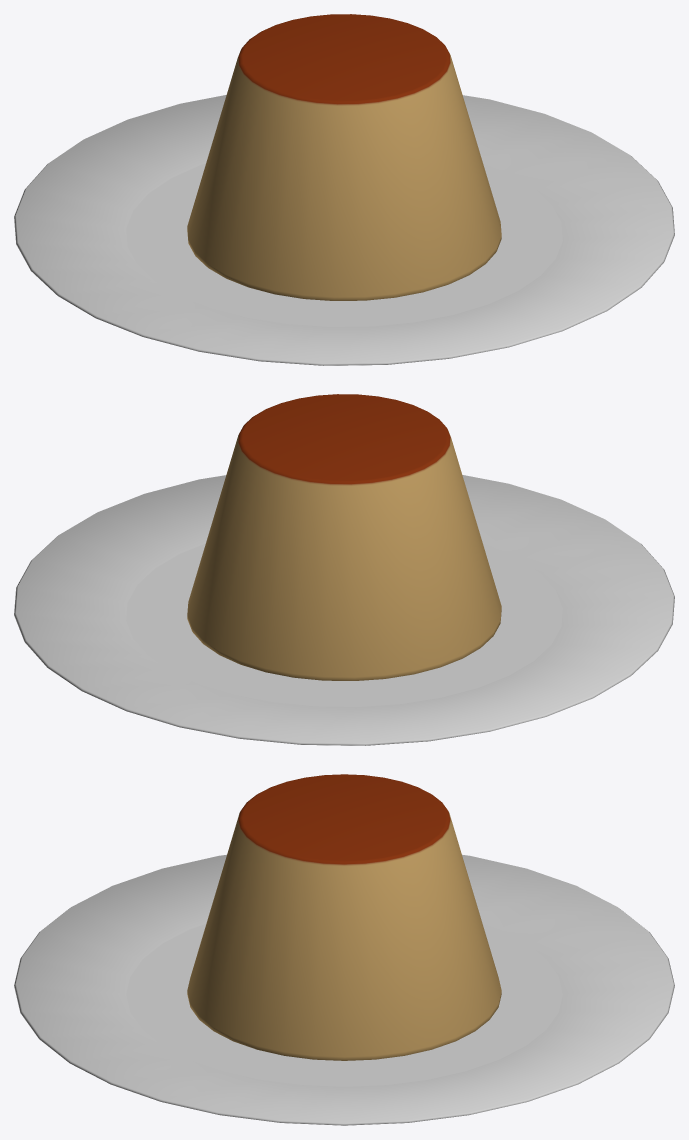
The model's file is pudding.glb.
3 views of the same model, one above another, from view 1: azimuth 30°, elevation 25°; view 2: azimuth 150°, elevation 25°; view 3: azimuth 270°, elevation 25° (orthographic).
Visible parts, largest first — view 1: Plate, Pudding; view 2: Plate, Pudding; view 3: Plate, Pudding.
Part boxes in pixels (x1,y1,x2,y2): Plate: [14, 95, 674, 365]; Pudding: [187, 14, 501, 300]; Plate: [14, 475, 674, 745]; Pudding: [187, 394, 501, 680]; Plate: [14, 854, 674, 1125]; Pudding: [187, 774, 501, 1060].
Bounding box in the file's own units: 1.66 × 0.5079 × 1.66.
